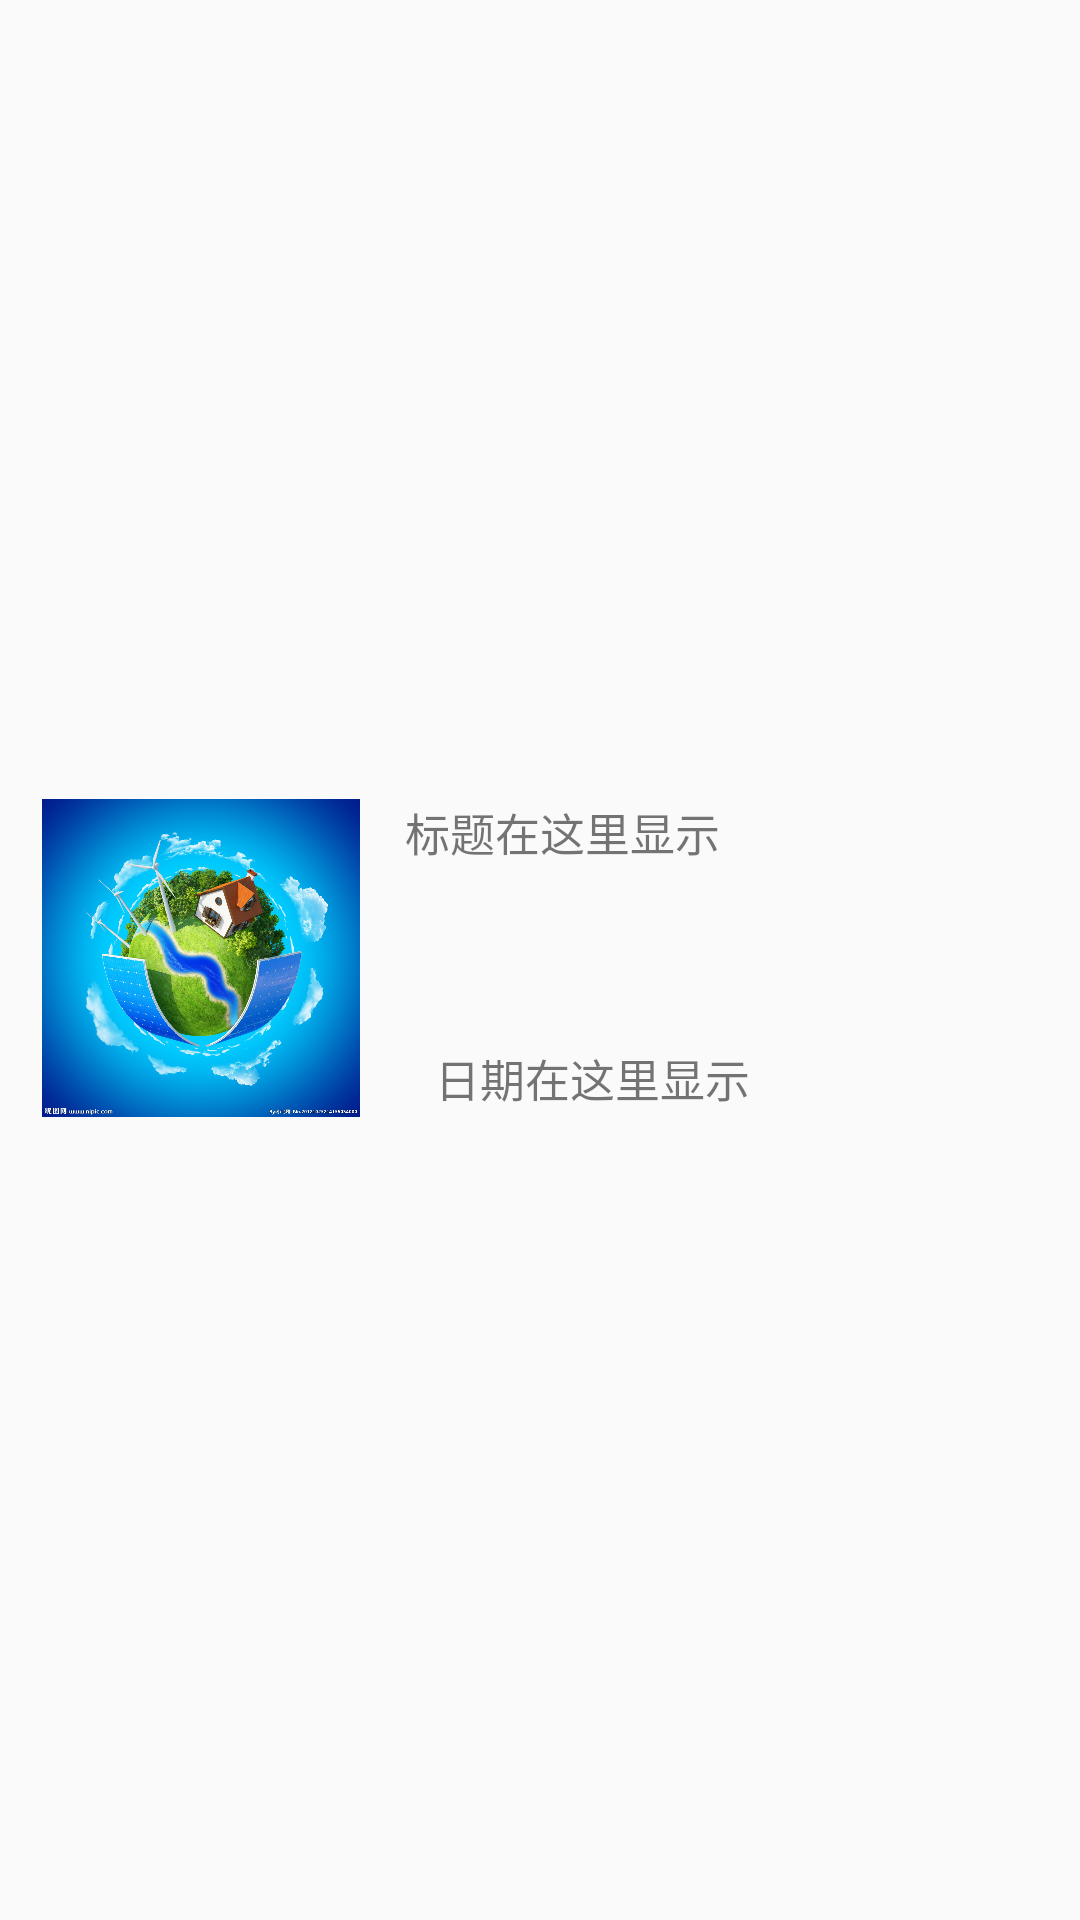

Icon bounding boxes for this 1080x1920 phone screenshot, format (x1, y1, x2, y2):
earth: (42, 799, 360, 1117)
